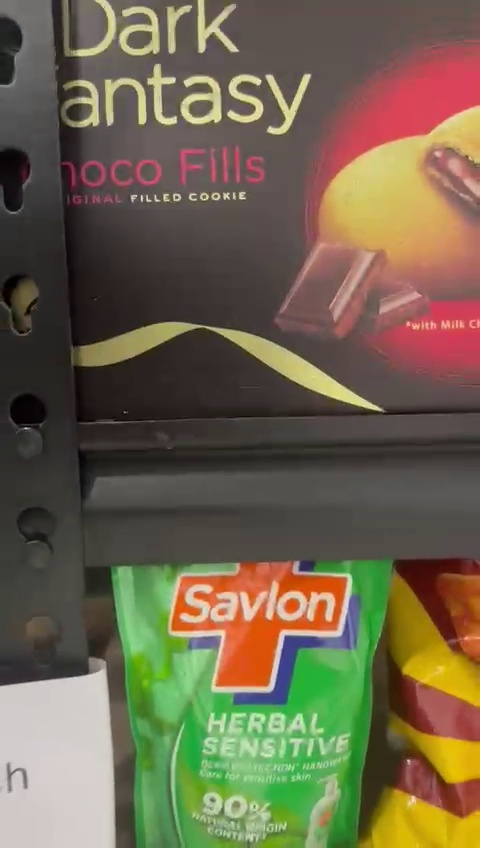Savlon Herbal: (108, 559, 381, 848)
